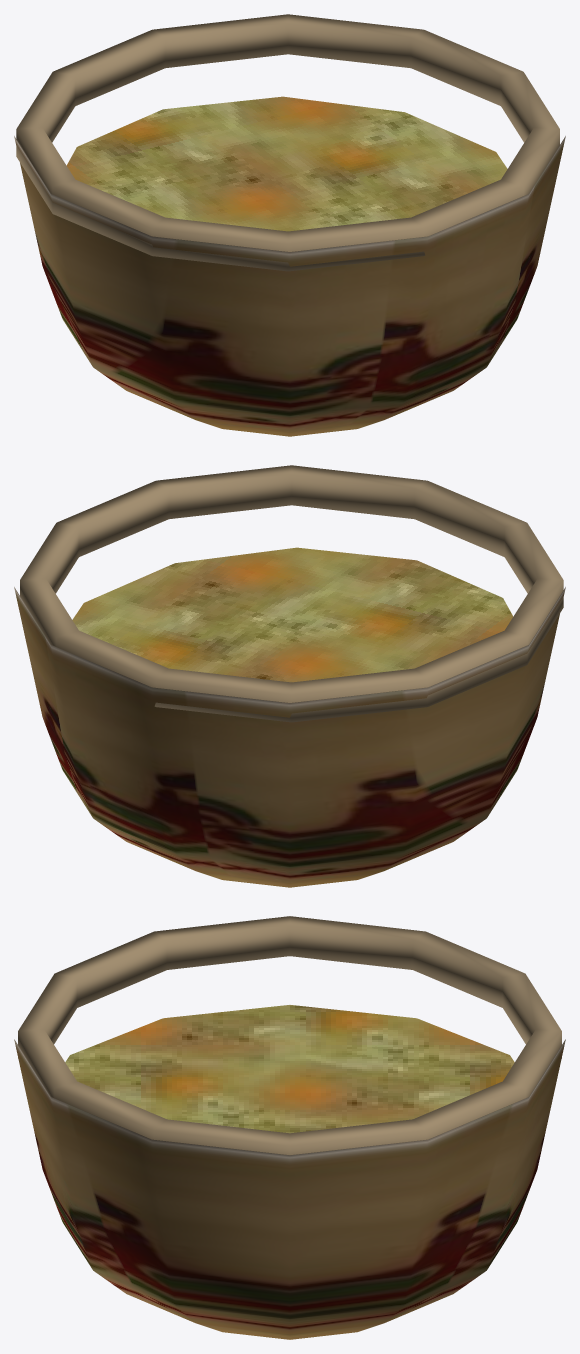
Rendered from soupbowl.glb.
3 renders of one model, top to bottom at view 1: azimuth 30°, elevation 25°; view 2: azimuth 150°, elevation 25°; view 3: azimuth 270°, elevation 25°, orthographic.
Parts seen in each view (by area): view 1: soupbowl.ms3d.mo; view 2: soupbowl.ms3d.mo; view 3: soupbowl.ms3d.mo.
Part boxes in pixels (box(x1,y1,x2,y2)): soupbowl.ms3d.mo: box(14, 14, 565, 436); soupbowl.ms3d.mo: box(14, 465, 565, 887); soupbowl.ms3d.mo: box(14, 916, 565, 1339).
Bounding box in the file's own units: 22.09 × 11.93 × 22.09.
Materials: 2 (2 with a texture image).
